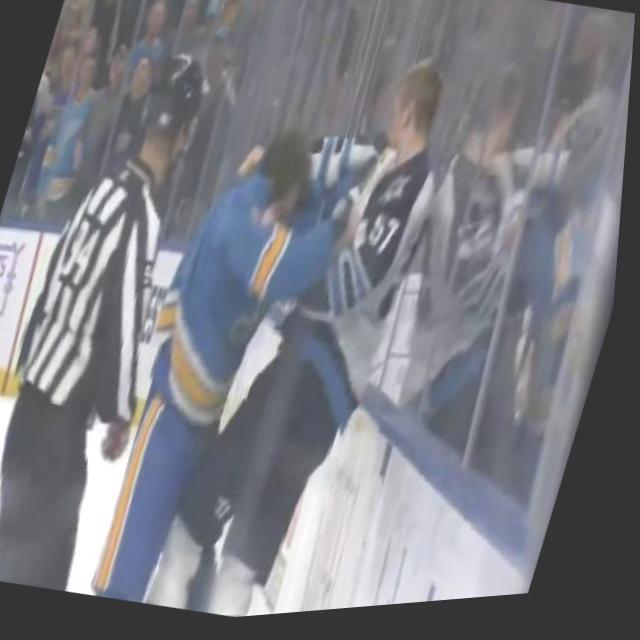fight: (80, 18, 482, 632)
